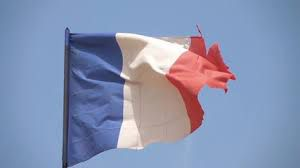French Flag: (66, 30, 236, 167)
